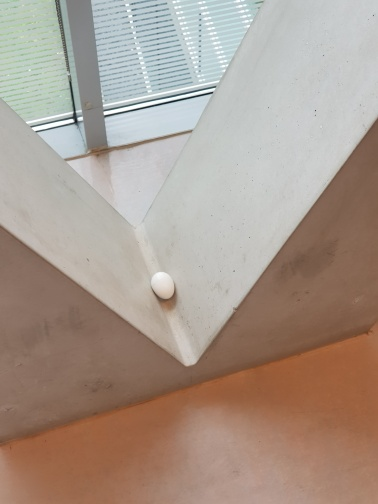egg: (148, 269, 176, 302)
